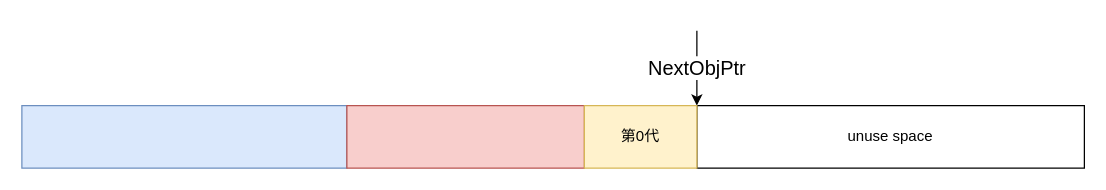
Image size: 1106x190. Some labels were removed from this diagram. Here are the shapes that lost their labels. From the top down, the centre of each, then its label:
[184,136]: 第2代
[465,136]: 第1代
